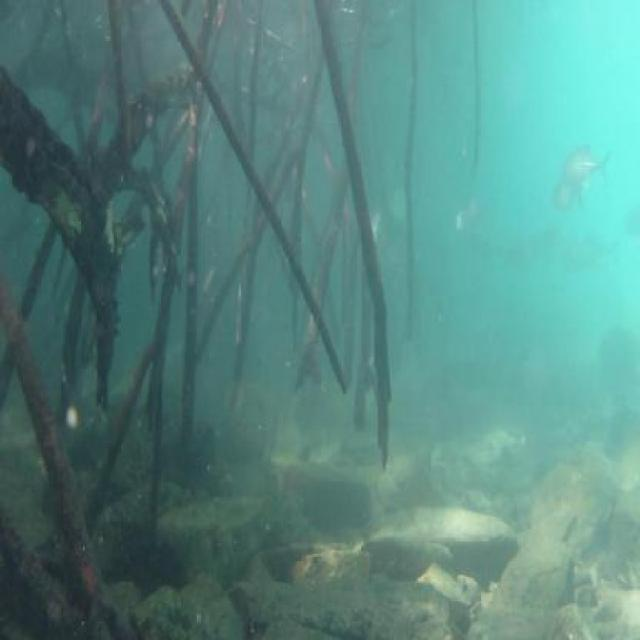Caranx_sexfasciatus_juvenile: (555, 171, 596, 226), (455, 197, 494, 254), (570, 150, 619, 195)
